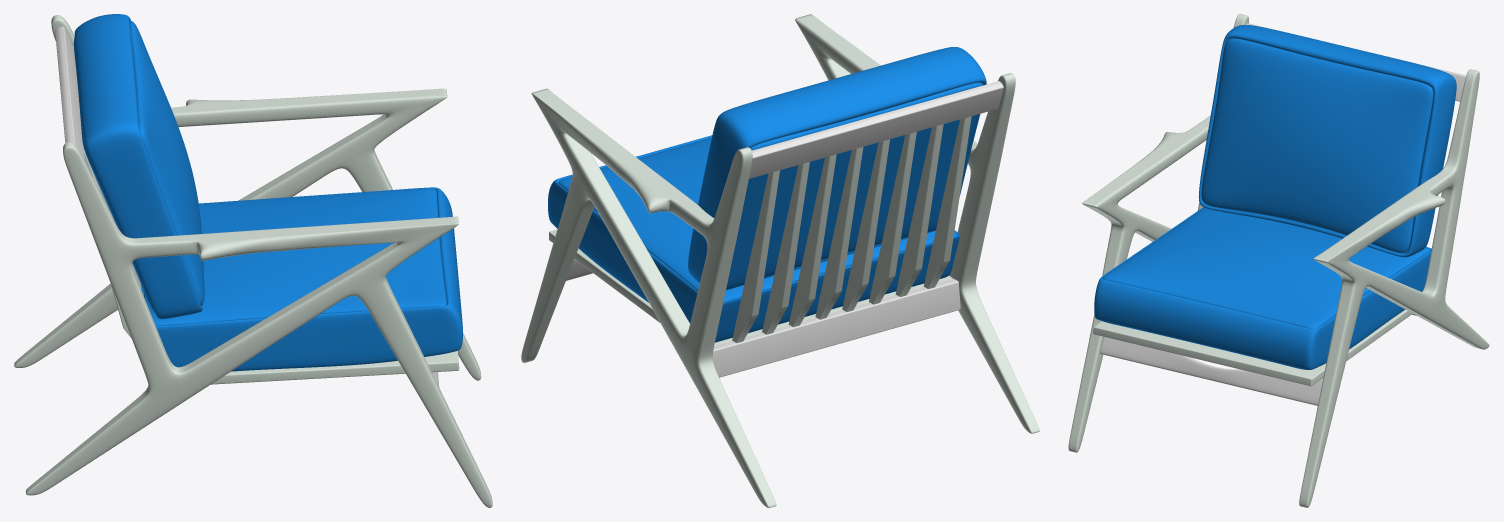
The model's file is Chair.glb.
The picture shows the model from 3 angles, left to right: view 1: azimuth 30°, elevation 25°; view 2: azimuth 150°, elevation 25°; view 3: azimuth 270°, elevation 25°; orthographic projection. The views are drawn at different scales.
Parts seen in each view (by area): view 1: cushions, legs, base, supports; view 2: cushions, legs, back, supports, base; view 3: cushions, legs, supports, base.
Boxes of the visible parts, box(x1,y1,x2,y2) form: cushions: box(73, 14, 462, 371); legs: box(14, 15, 492, 507); base: box(211, 350, 459, 384); supports: box(55, 26, 439, 386); cushions: box(548, 47, 986, 342); legs: box(521, 14, 1039, 507); back: box(732, 116, 971, 342); supports: box(566, 81, 1003, 377); base: box(549, 229, 952, 345); cushions: box(1094, 25, 1456, 369); legs: box(1068, 14, 1489, 507); supports: box(1100, 23, 1466, 405); base: box(1093, 309, 1412, 386).
Size of the model in its own units: 1.33 by 0.9979 by 1.19.
